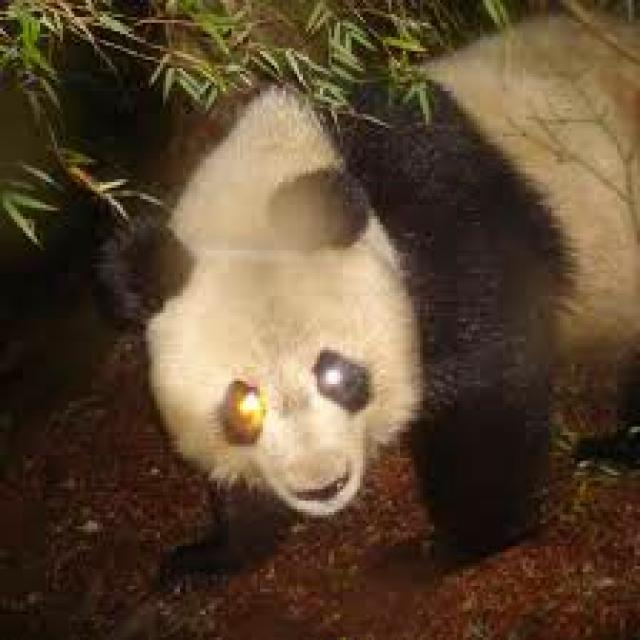panda: (103, 14, 640, 560)
